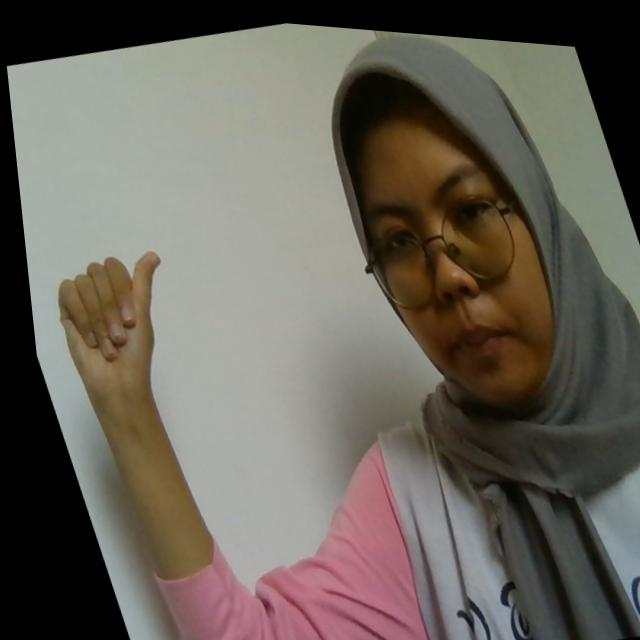A: (33, 239, 193, 397)
